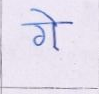e_matra: (30, 8, 59, 22)
